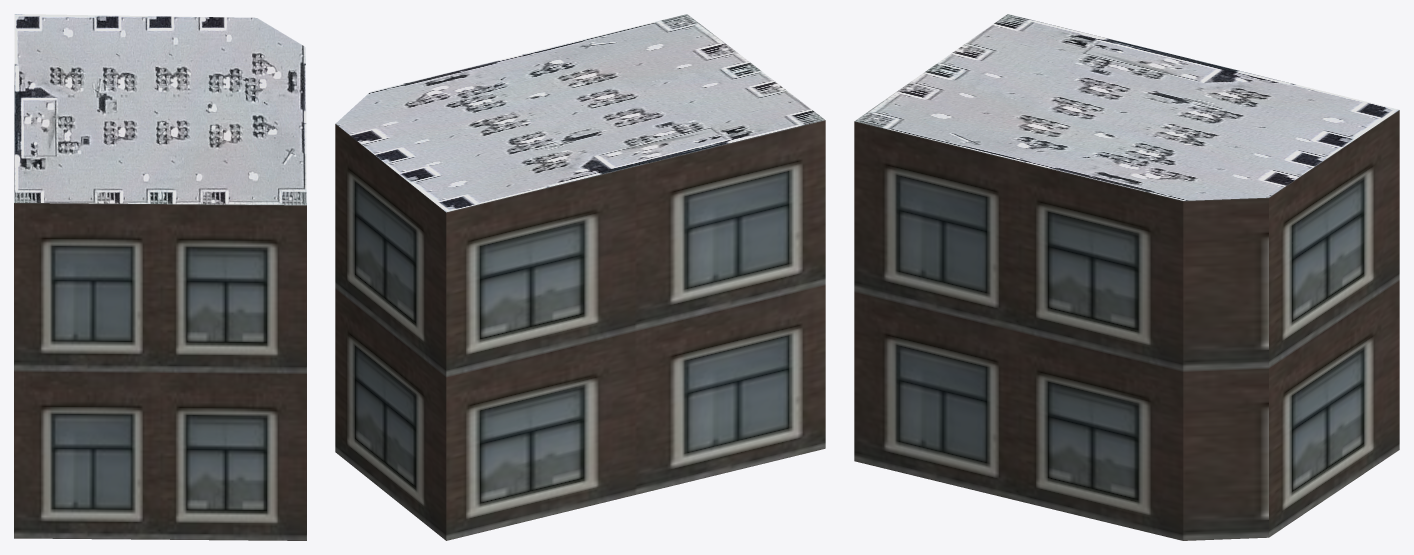
File: ResTex__602.fbx
3 renders of one model, left to right at view 1: azimuth 30°, elevation 25°; view 2: azimuth 150°, elevation 25°; view 3: azimuth 270°, elevation 25°, orthographic. The views are drawn at different scales.
Visible parts, largest first — view 1: CityEngineMaterial_16_m, CityEngineMaterial_15_m; view 2: CityEngineMaterial_16_m, CityEngineMaterial_15_m; view 3: CityEngineMaterial_16_m, CityEngineMaterial_15_m.
Part boxes in pixels (x1,y1,x2,y2): CityEngineMaterial_16_m: (14,203,306,540); CityEngineMaterial_15_m: (14,14,306,205); CityEngineMaterial_16_m: (335,120,825,540); CityEngineMaterial_15_m: (335,14,824,212); CityEngineMaterial_16_m: (854,110,1399,540); CityEngineMaterial_15_m: (855,14,1398,200).
Size of the model in its own units: 7.08 by 6 by 8.72.
2 materials, 2 textured.
